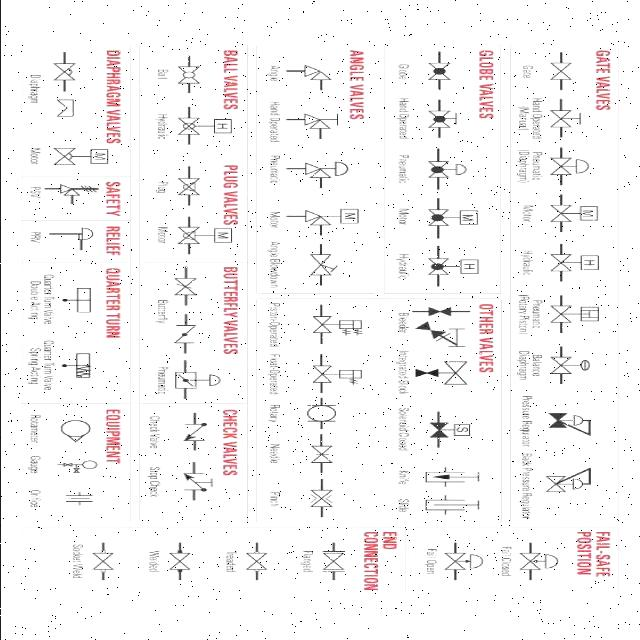Angle Blowdown: (308, 248, 338, 280)
Angle Valve: (293, 60, 338, 86)
BackPressure Regulator: (536, 457, 610, 512)
Balance Diaphragm Gate Valve: (540, 352, 596, 378)
Ball Valve: (170, 59, 205, 88)
Bleeder Valve: (413, 320, 468, 349), (416, 300, 469, 317)
Butterfly Valve: (168, 310, 210, 357), (170, 272, 199, 302)
Check Valve: (174, 415, 208, 447)
Diaphragm Valve: (46, 59, 90, 86), (52, 91, 87, 118)
Fail Closed Safe Position: (518, 538, 564, 584)
Fail Open Safe Position: (442, 538, 493, 586)
Flanged: (317, 542, 352, 586)
Float Operated Valve: (306, 364, 371, 387)
Gate Valve: (546, 56, 580, 84)
Gauge: (46, 460, 96, 474)
Globe Valve: (418, 54, 462, 86)
Hand Operated Angle Valve: (291, 106, 348, 137)
Hand Operated Gate Valve: (544, 102, 588, 133)
Hand Operated Globe Valve: (422, 104, 464, 136)
Hydraulic Operated Ball Valve: (174, 114, 241, 138)
Hydraulic Operated Gate Valve: (543, 244, 606, 274)
Hydraulic Operated Globe Valve: (426, 252, 491, 280)
Integrated Block Valve: (413, 360, 472, 393)
Knife Valve: (416, 462, 492, 492)
Motor Operated Angle Valve: (282, 197, 370, 233), (175, 227, 242, 247)
Motor Operated Diaphragm Valve: (49, 148, 118, 167)
Motor Operated Gate Valve: (544, 198, 608, 228)
Motor Operated Globe Valve: (422, 201, 488, 234)
Needle Valve: (302, 440, 336, 468)
Orifice: (62, 485, 101, 508)
PRV: (48, 224, 94, 248)
PSV: (44, 184, 99, 203)
Pinch Valve: (300, 480, 348, 516)
Piston Operated Valve: (312, 306, 372, 338)
Plug Valve: (178, 170, 208, 200)
Pneumatic-Diaphragm Angle Valve: (290, 157, 358, 186)
Pneumatic-Diaphragm Butterfly Valve: (170, 366, 230, 394)
Pneumatic-Diaphragm Gate Valve: (546, 150, 594, 178)
Pneumatic-Diaphragm Globe Valve: (426, 146, 472, 182)
Pressure Regulator: (540, 408, 596, 440)
Quarter Turn Valve Double Acting: (55, 270, 98, 321)
Quarter Turn Valve Spring Acting: (60, 346, 96, 384)
Rotameter: (44, 412, 98, 450)
Rotary Piston-Pneumatic Gate Valve: (547, 300, 607, 324)
Rotary Valve: (302, 400, 350, 428)
Slide Valve: (419, 493, 492, 516)
Socket Weld: (89, 530, 122, 594)
Solenoid Closed Valve: (426, 406, 482, 449)
Stop Valve: (180, 465, 218, 500)
Treaded: (240, 540, 283, 588)
Welded: (164, 538, 199, 584)
